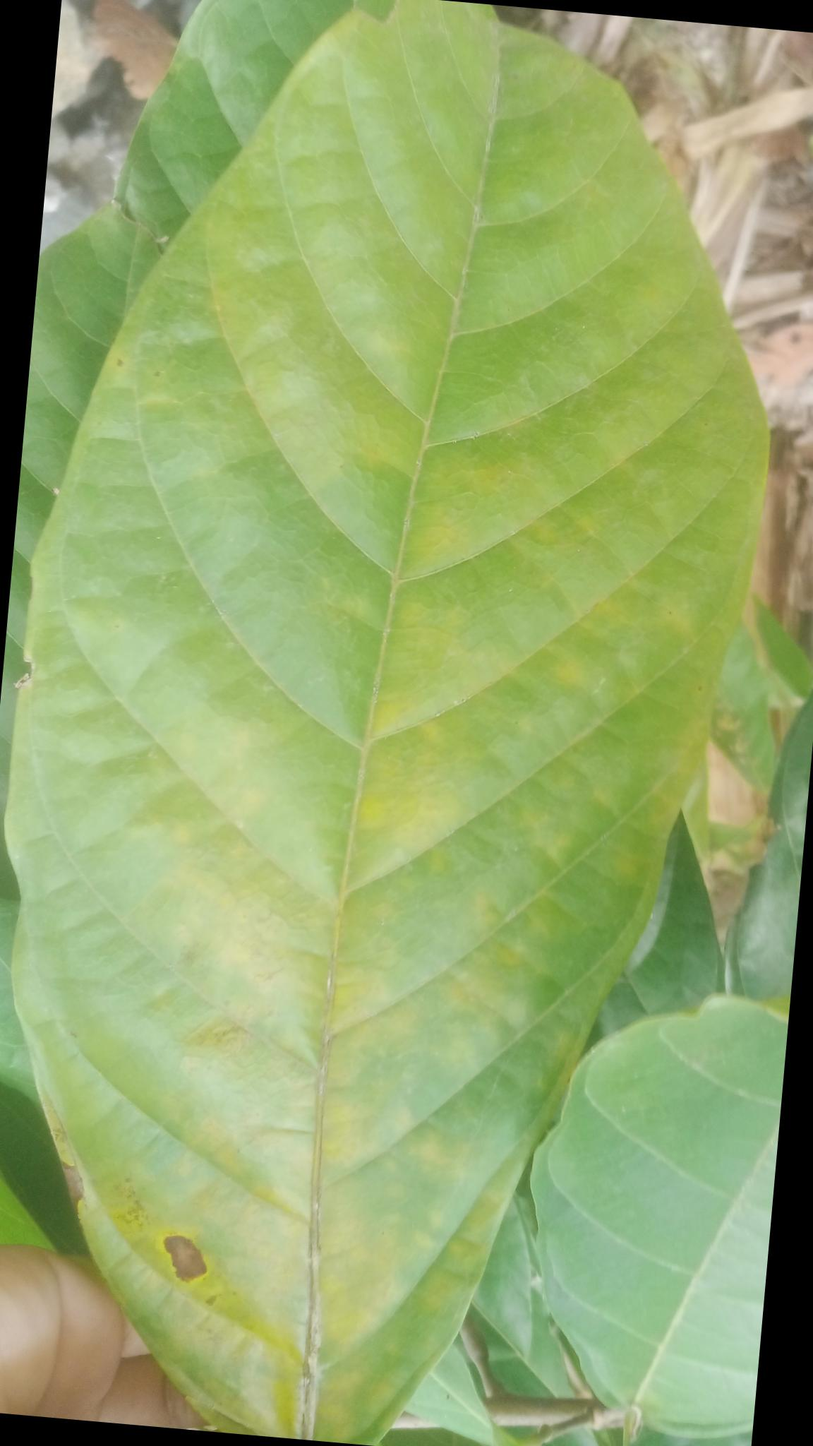Fosforo: (0, 0, 783, 1445)
